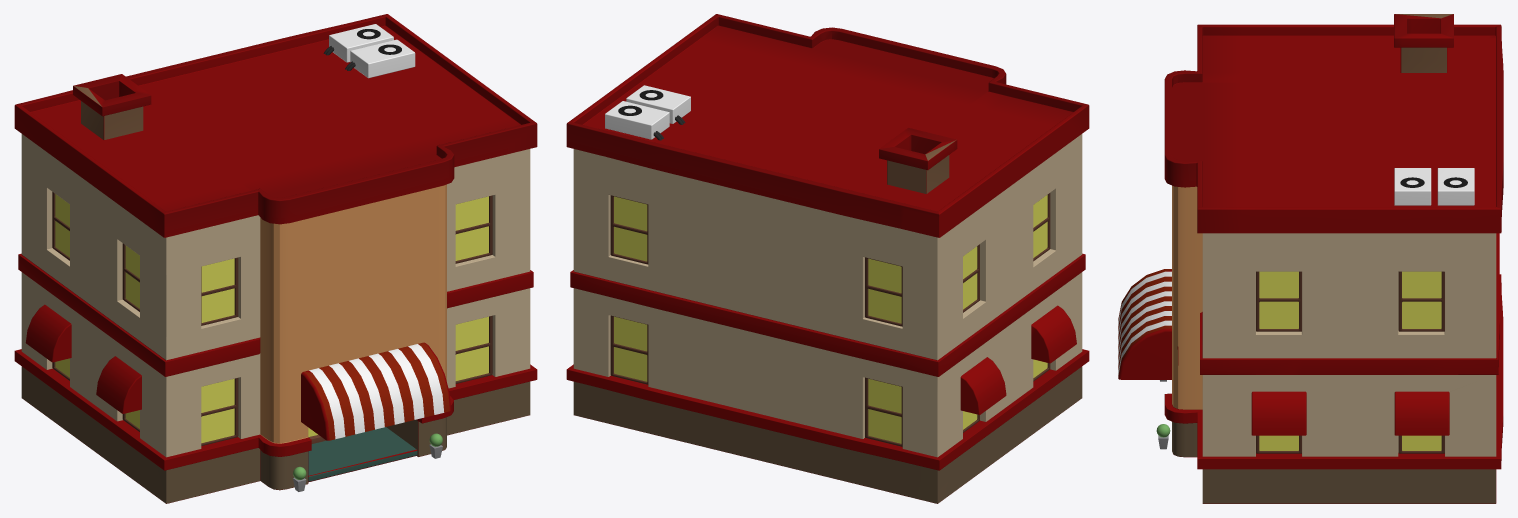
File: Target_Building_17.fbx
3 renders of one model, left to right at view 1: azimuth 30°, elevation 25°; view 2: azimuth 150°, elevation 25°; view 3: azimuth 270°, elevation 25°, orthographic.
Visible parts, largest first — view 1: pizzaria; view 2: pizzaria; view 3: pizzaria.
Boxes of the visible parts, x1=… form: pizzaria: x1=14, y1=14, x2=537, y2=503; pizzaria: x1=566, y1=14, x2=1089, y2=503; pizzaria: x1=1118, y1=14, x2=1503, y2=503.
Size of the model in its own units: 83.43 by 63.44 by 68.14.
